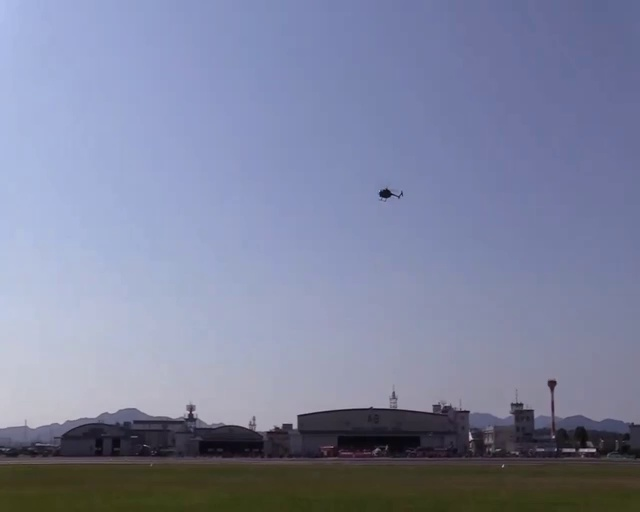HELICOPTER: (378, 187, 404, 201)
